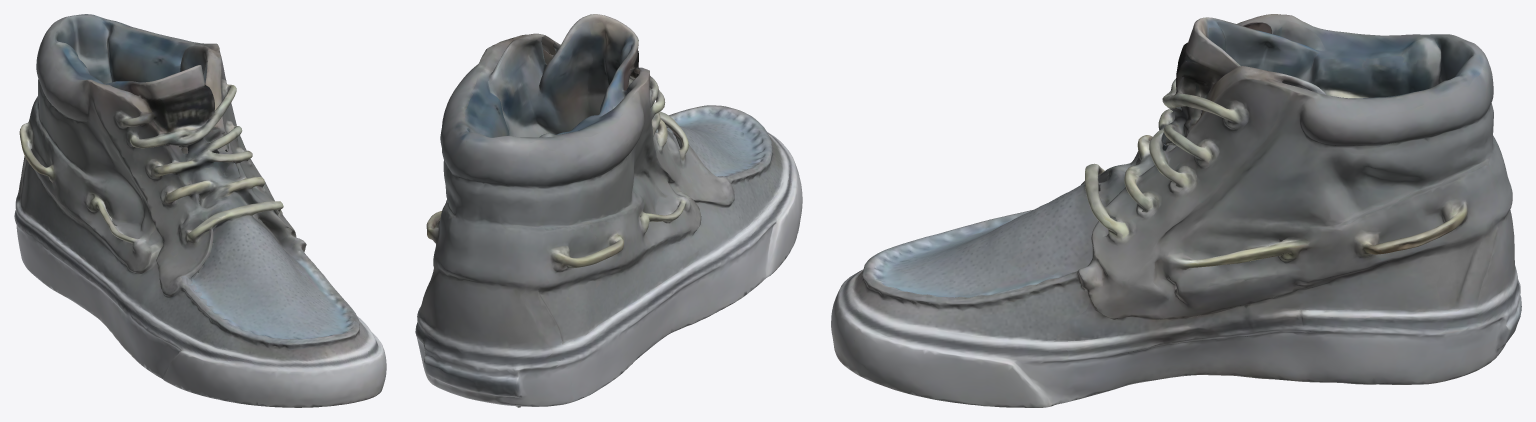
File: Womens_Betty_Chukka_Boot_in_Grey_Jersey_Sequin.glb
The picture shows the model from 3 angles, left to right: view 1: azimuth 30°, elevation 25°; view 2: azimuth 150°, elevation 25°; view 3: azimuth 270°, elevation 25°; orthographic projection. The views are drawn at different scales.
Visible parts, largest first — view 1: geometry_0; view 2: geometry_0; view 3: geometry_0.
Boxes of the visible parts, x1=… form: geometry_0: x1=14, y1=14, x2=386, y2=407; geometry_0: x1=415, y1=14, x2=802, y2=407; geometry_0: x1=831, y1=14, x2=1521, y2=407.
Bounding box in the file's own units: 0.3753 × 0.525 × 1.
Materials: 1 (1 with a texture image).
